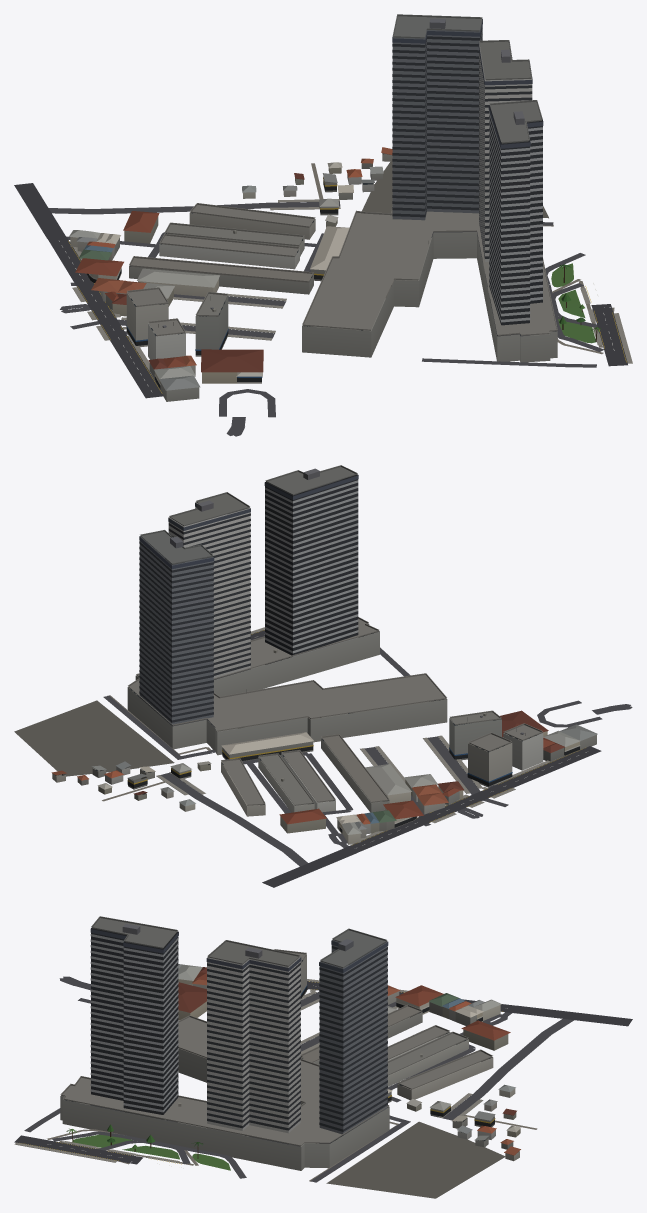
3 views of the same model, one above another, from view 1: azimuth 30°, elevation 25°; view 2: azimuth 150°, elevation 25°; view 3: azimuth 270°, elevation 25° (orthographic). The views are drawn at different scales.
Visible parts, largest first — view 1: Buildings__r-1c-2-col, Avída Towers Riala-col, Roads_Minor__r-1c-2, Roads_Major__r-1c-2, Buildings_Infill__r-1c-2-col, Landuse__r-1c-2, Sidewalks__r-1c-2-col, Zerenity Hotel & Suites-col, Alba Uno Hotel-col, 7-Eleven.002-col; view 2: Buildings__r-1c-2-col, Avída Towers Riala-col, Landuse__r-1c-2, Roads_Minor__r-1c-2, Roads_Major__r-1c-2, Buildings_Infill__r-1c-2-col, Zerenity Hotel & Suites-col, Alba Uno Hotel-col, Sidewalks__r-1c-2-col, 7-Eleven.002-col; view 3: Buildings__r-1c-2-col, Avída Towers Riala-col, Landuse__r-1c-2, Roads_Minor__r-1c-2, Roads_Major__r-1c-2, Buildings_Infill__r-1c-2-col, Sidewalks__r-1c-2-col, 7-Eleven.002-col, Footways__r-1c-2.
Boxes of the visible parts, x1,y1,x2,y2 form: Buildings__r-1c-2-col: (69,14,543,401); Avída Towers Riala-col: (302,206,557,362); Roads_Minor__r-1c-2: (48,201,603,436); Roads_Major__r-1c-2: (14,183,627,398); Buildings_Infill__r-1c-2-col: (242,147,392,227); Landuse__r-1c-2: (362,161,595,343); Sidewalks__r-1c-2-col: (70,199,632,382); Zerenity Hotel & Suites-col: (126,287,168,347); Alba Uno Hotel-col: (195,292,228,356); 7-Eleven.002-col: (75,258,123,283); Buildings__r-1c-2-col: (139,465,597,844); Avída Towers Riala-col: (127,617,447,755); Landuse__r-1c-2: (14,700,174,776); Roads_Minor__r-1c-2: (103,647,632,866); Roads_Major__r-1c-2: (250,630,601,887); Buildings_Infill__r-1c-2-col: (51,761,211,811); Zerenity Hotel & Suites-col: (467,732,512,787); Alba Uno Hotel-col: (449,710,501,760); Sidewalks__r-1c-2-col: (156,627,570,844); 7-Eleven.002-col: (383,800,423,827); Buildings__r-1c-2-col: (90,916,510,1146); Avída Towers Riala-col: (60,1015,389,1170); Landuse__r-1c-2: (72,1121,505,1198); Roads_Minor__r-1c-2: (24,976,573,1182); Roads_Major__r-1c-2: (14,981,632,1164); Buildings_Infill__r-1c-2-col: (406,1084,521,1161); Sidewalks__r-1c-2-col: (14,979,483,1162); 7-Eleven.002-col: (395,985,443,1014); Footways__r-1c-2: (47,1115,537,1181).
Bounding box in the file's own units: 306 × 121 × 344.
